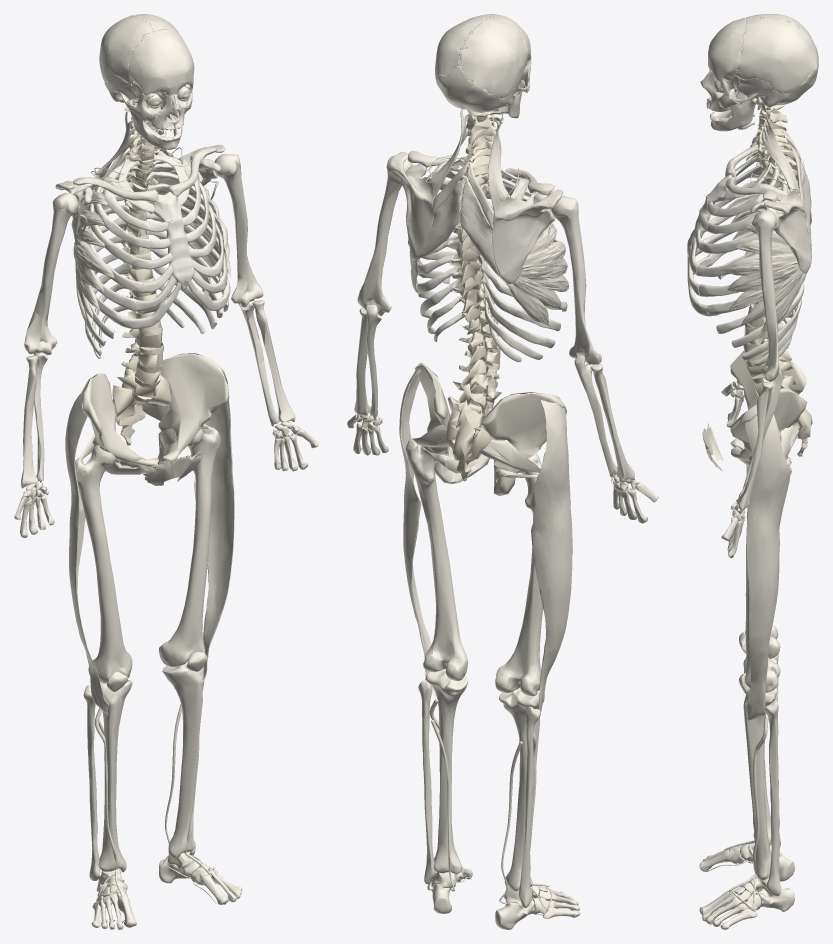
The model's file is skeleton.glb.
The picture shows the model from 3 angles, left to right: view 1: azimuth 30°, elevation 25°; view 2: azimuth 150°, elevation 25°; view 3: azimuth 270°, elevation 25°; orthographic projection. The views are drawn at different scales.
Visible parts, largest first — view 1: lower_limbs, rib_cage, upper_limbs, pelvis, skull, pectoral_girdle, vertebral_column; view 2: lower_limbs, pectoral_girdle, upper_limbs, vertebral_column, skull, pelvis, rib_cage; view 3: lower_limbs, skull, pectoral_girdle, rib_cage, upper_limbs, pelvis, vertebral_column.
Boxes of the visible parts, bbox=[...] form: lower_limbs: bbox=[65, 90, 242, 929]; rib_cage: bbox=[84, 151, 230, 358]; upper_limbs: bbox=[14, 153, 318, 537]; pelvis: bbox=[78, 353, 228, 485]; skull: bbox=[99, 14, 194, 149]; pectoral_girdle: bbox=[55, 111, 230, 324]; vertebral_column: bbox=[112, 102, 171, 445]; lower_limbs: bbox=[399, 369, 580, 929]; pectoral_girdle: bbox=[389, 108, 568, 326]; upper_limbs: bbox=[347, 155, 658, 523]; vertebral_column: bbox=[446, 109, 501, 481]; skull: bbox=[435, 14, 531, 124]; pelvis: bbox=[412, 362, 566, 495]; rib_cage: bbox=[417, 159, 568, 361]; lower_limbs: bbox=[699, 80, 794, 929]; skull: bbox=[700, 14, 818, 131]; pectoral_girdle: bbox=[719, 114, 811, 335]; rib_cage: bbox=[687, 153, 805, 366]; upper_limbs: bbox=[721, 133, 783, 558]; pelvis: bbox=[702, 350, 807, 475]; vertebral_column: bbox=[743, 104, 812, 456].
Bounding box in the file's own units: 0.6188 × 1.71 × 0.2318.
